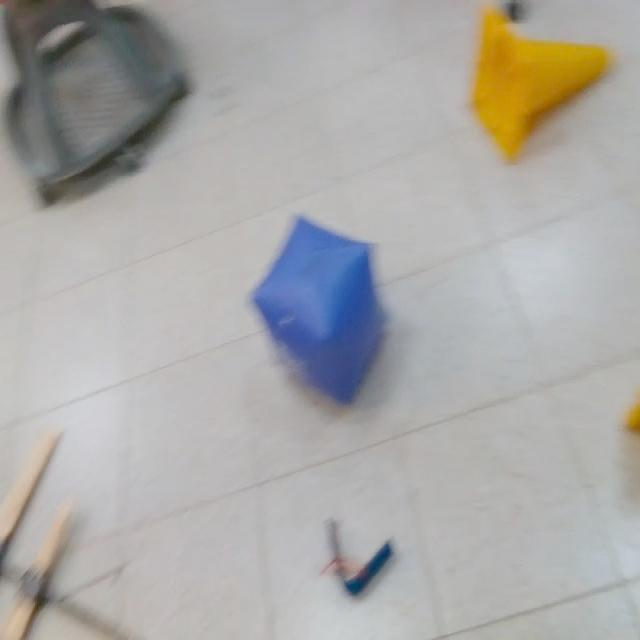cone: (471, 1, 614, 162)
cube: (252, 215, 388, 406)
